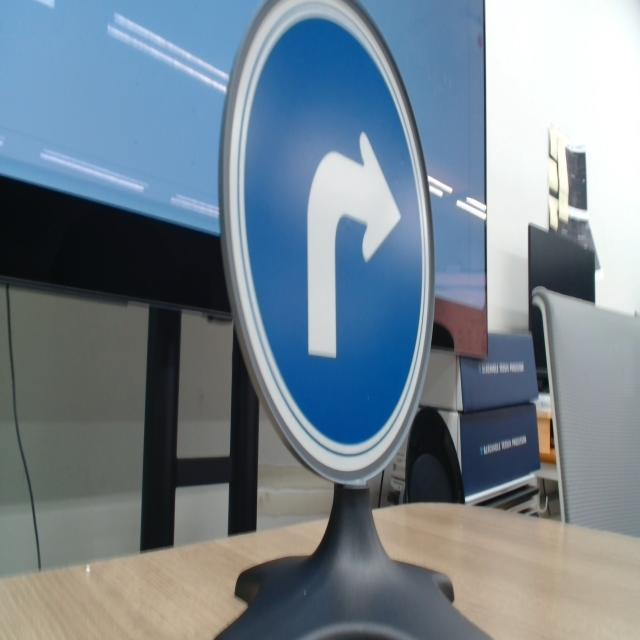right_dierection: (209, 0, 443, 487)
